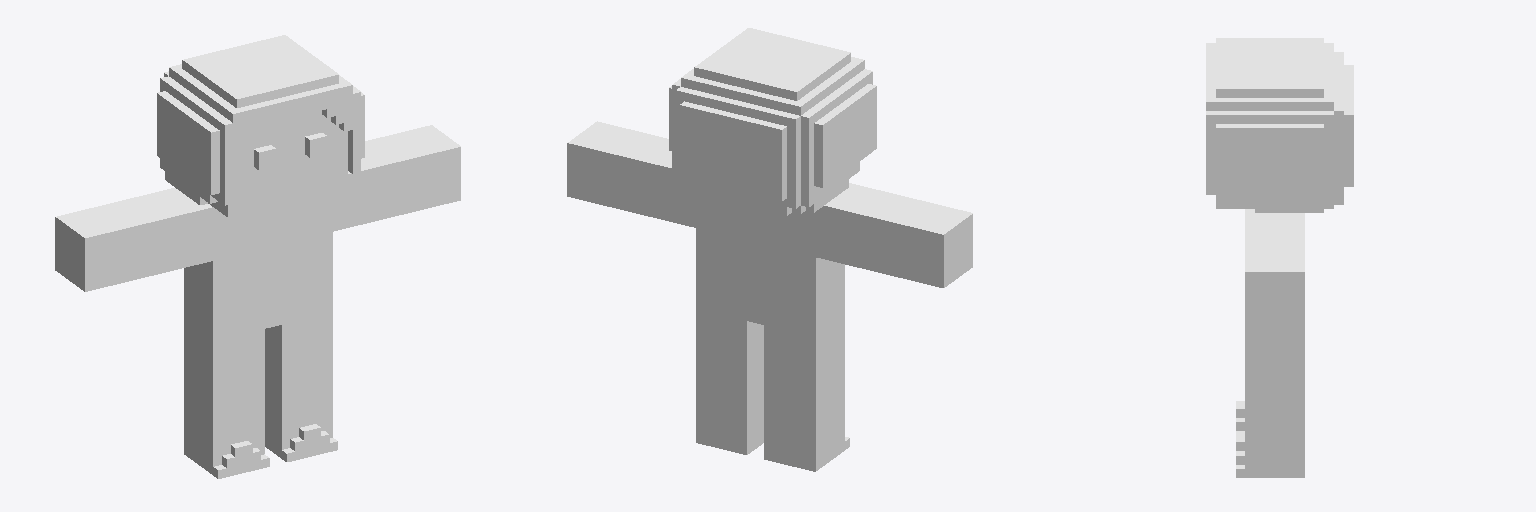
The model's file is Soldier_02.obj.
3 views of the same model, side by side, from view 1: azimuth 30°, elevation 25°; view 2: azimuth 150°, elevation 25°; view 3: azimuth 270°, elevation 25° (orthographic).
Parts seen in each view (by area): view 1: object 1; view 2: object 1; view 3: object 1.
Part boxes in pixels (bbox=[...]): object 1: bbox=[55, 35, 460, 478]; object 1: bbox=[567, 28, 972, 471]; object 1: bbox=[1206, 38, 1353, 477].
Bounding box in the file's own units: 4.4 × 4.3 × 1.5.